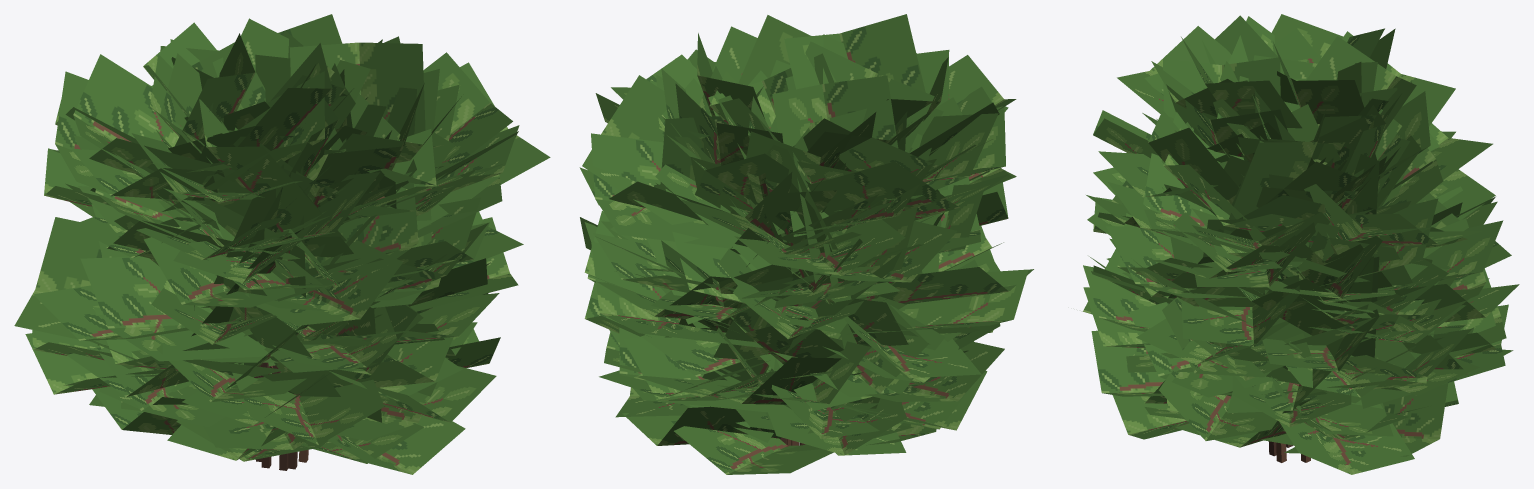
File: leafy_bush5_v1.fbx
3 views of the same model, side by side, from view 1: azimuth 30°, elevation 25°; view 2: azimuth 150°, elevation 25°; view 3: azimuth 270°, elevation 25° (orthographic). The views are drawn at different scales.
Visible parts, largest first — view 1: leafy_bush5_v1; view 2: leafy_bush5_v1; view 3: leafy_bush5_v1.
Part boxes in pixels (x1,y1,x2,y2): leafy_bush5_v1: (14,14,550,474); leafy_bush5_v1: (579,14,1033,474); leafy_bush5_v1: (1082,14,1519,474).
Size of the model in its own units: 162 by 149 by 156.
